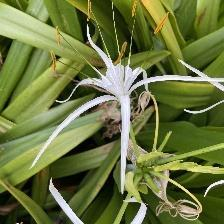spider lily: (74, 49, 169, 133)
